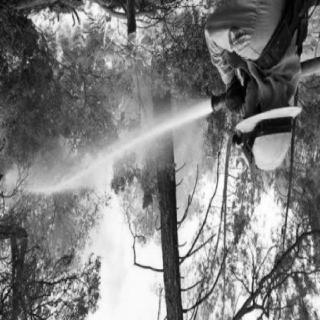Fire: (21, 2, 207, 80)
other: (231, 102, 303, 166)
